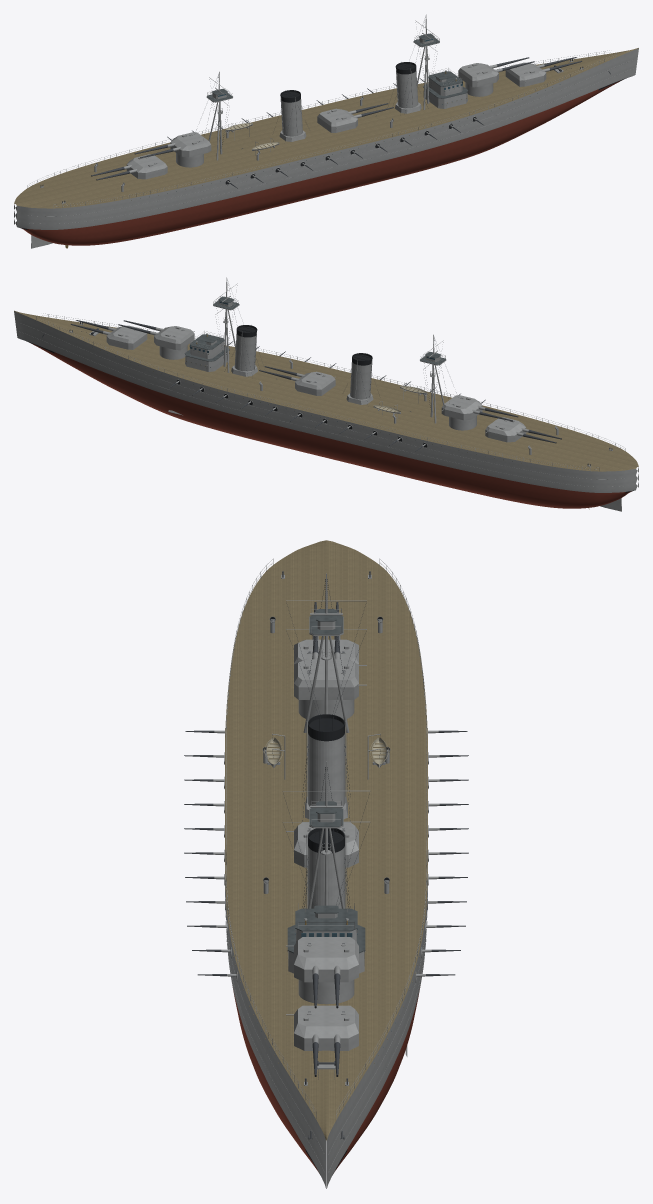
File: bretagne.glb
3 renders of one model, top to bottom at view 1: azimuth 30°, elevation 25°; view 2: azimuth 150°, elevation 25°; view 3: azimuth 270°, elevation 25°, orthographic. The views are drawn at different scales.
Parts seen in each view (by area): view 1: Bretagne class; view 2: Bretagne class; view 3: Bretagne class.
Boxes of the visible parts, x1,y1,x2,y2 form: Bretagne class: (14,14,638,248); Bretagne class: (14,277,638,511); Bretagne class: (184,540,468,1188).
Size of the model in its own units: 188 by 40.44 by 37.27.
9 materials, 8 textured.
